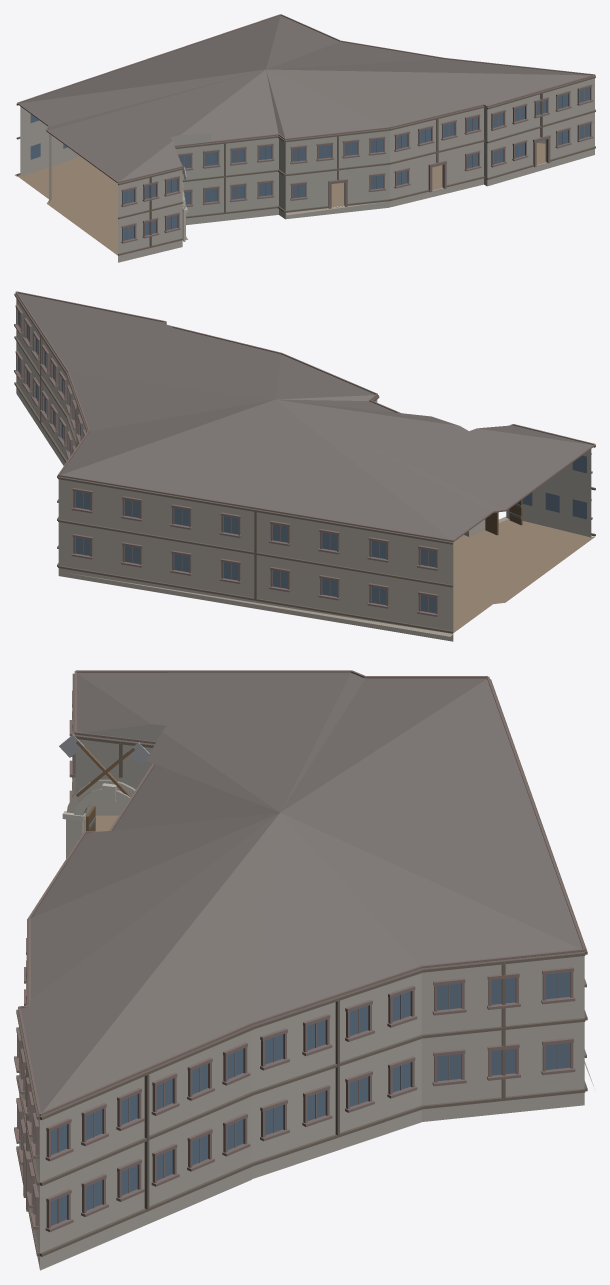
The picture shows the model from 3 angles, top to bottom: view 1: azimuth 30°, elevation 25°; view 2: azimuth 150°, elevation 25°; view 3: azimuth 270°, elevation 25°; orthographic projection. The views are drawn at different scales.
Visible parts, largest first — view 1: W01_visible; view 2: W01_visible; view 3: W01_visible.
Boxes of the visible parts, left/top/right/bottom form: W01_visible: left=14, top=14, right=595, bottom=262; W01_visible: left=14, top=291, right=595, bottom=641; W01_visible: left=14, top=670, right=594, bottom=1270.
Bounding box in the file's own units: 45.77 × 9.86 × 25.32.
